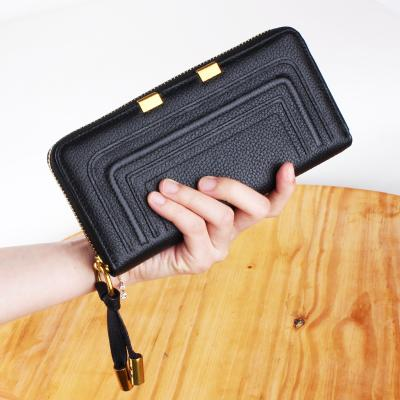no-phone: (45, 26, 356, 287)
